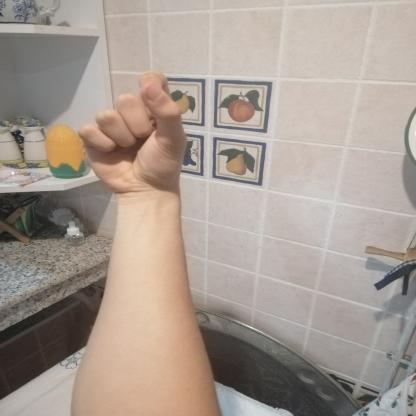FAA: (67, 61, 203, 203)
